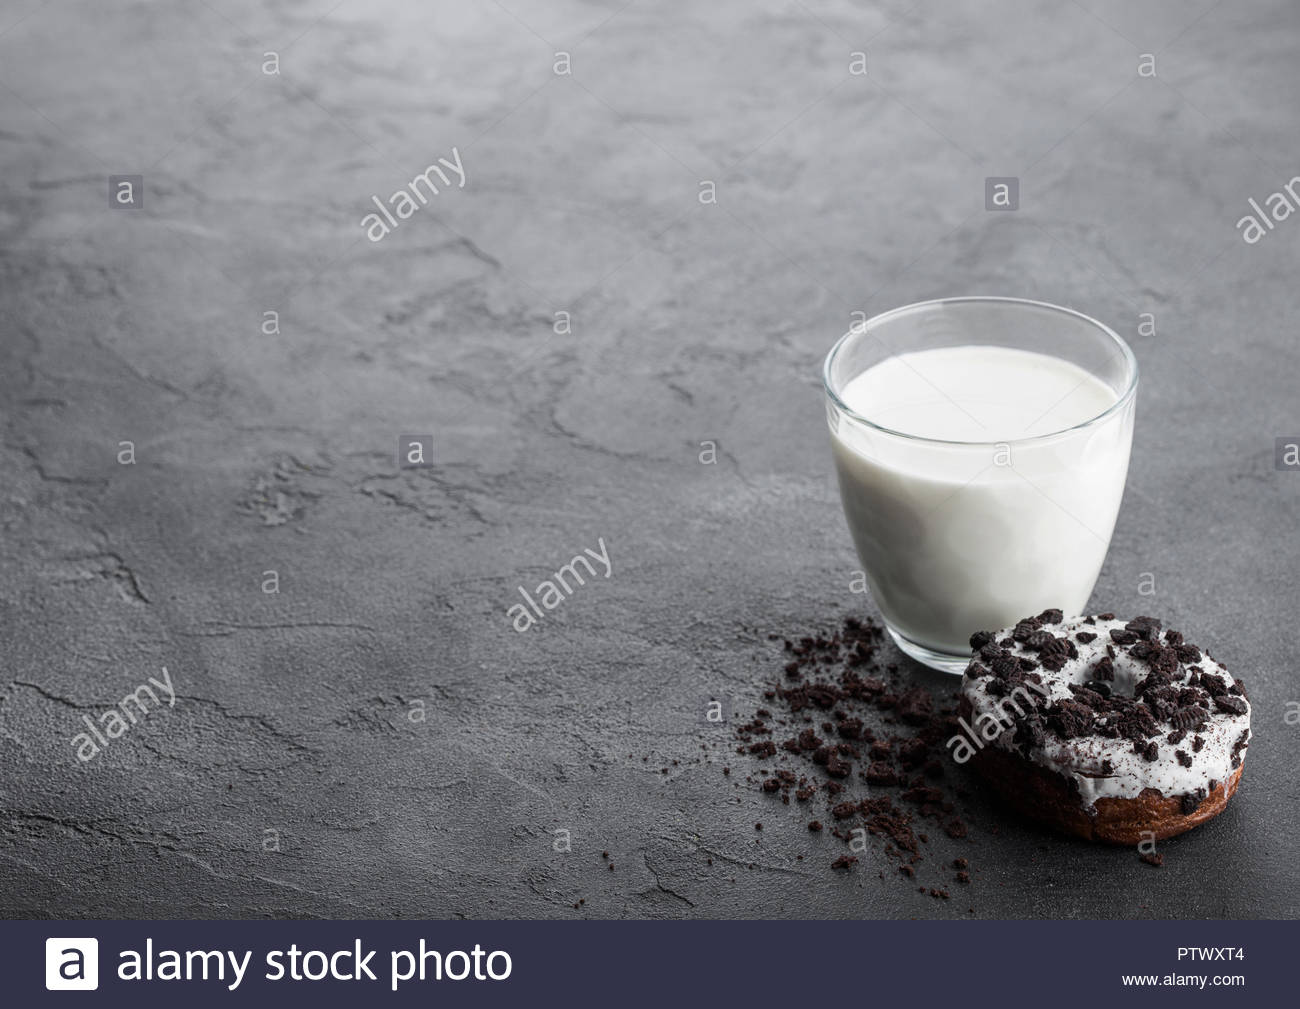glass of milk: (840, 307, 1097, 601)
